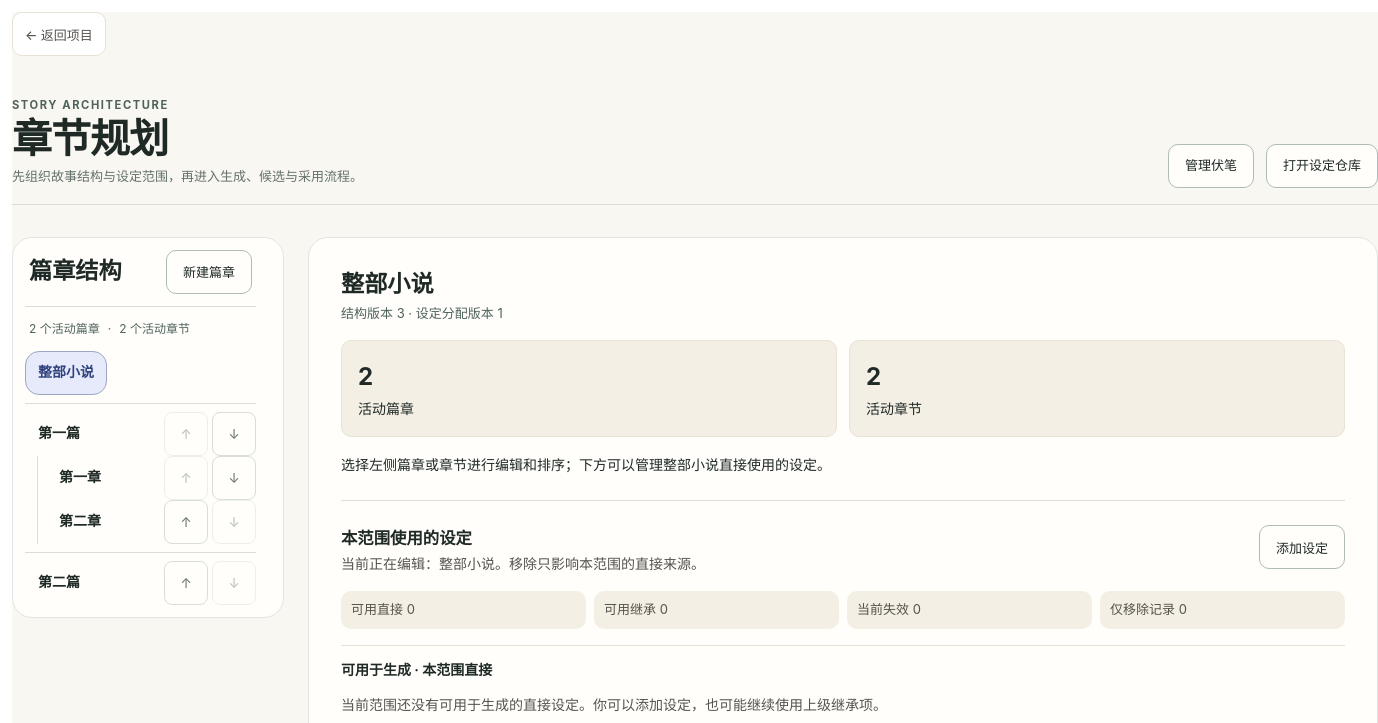
ChapterPlanningPage › never unlocks a version conflict when the authoritative refresh fails
Click the button "第一篇". click: (92, 434)
box: [25,412,160,456]
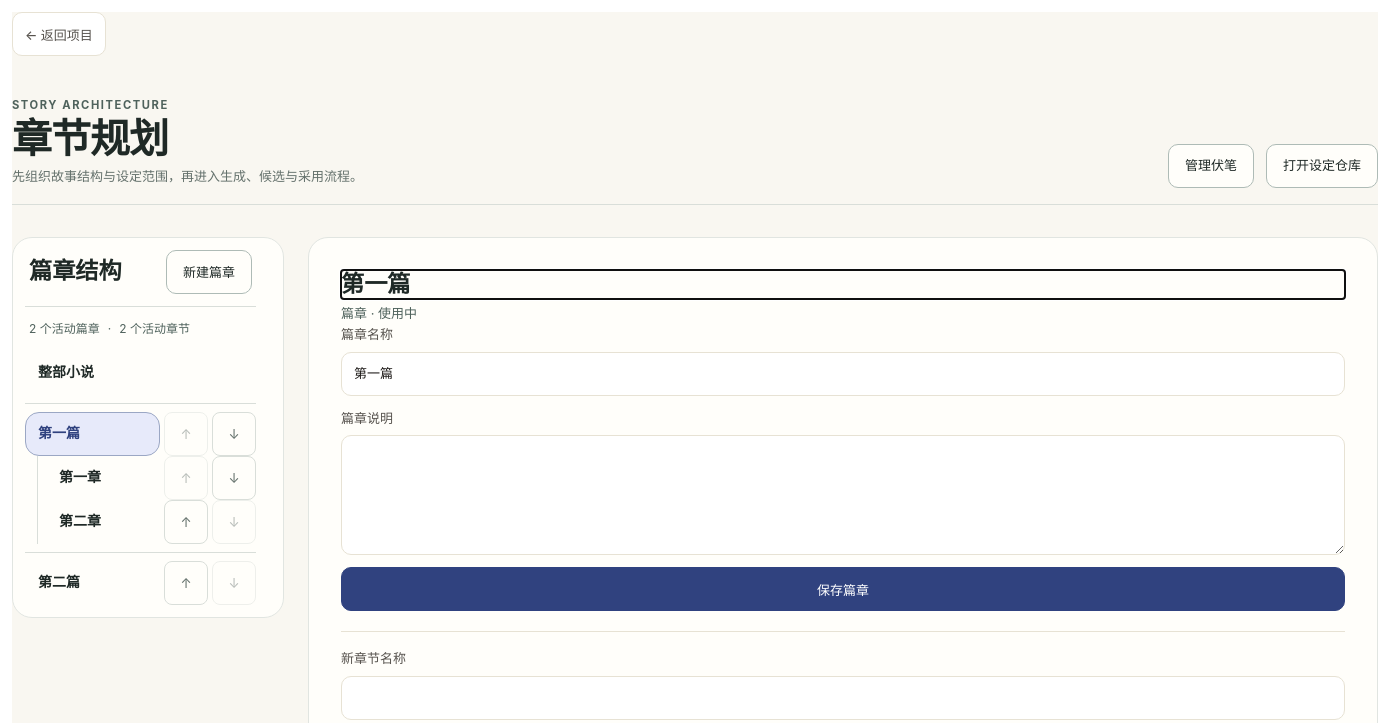
Click the button "保存篇章". click: (843, 589)
box: [341,567,1345,611]
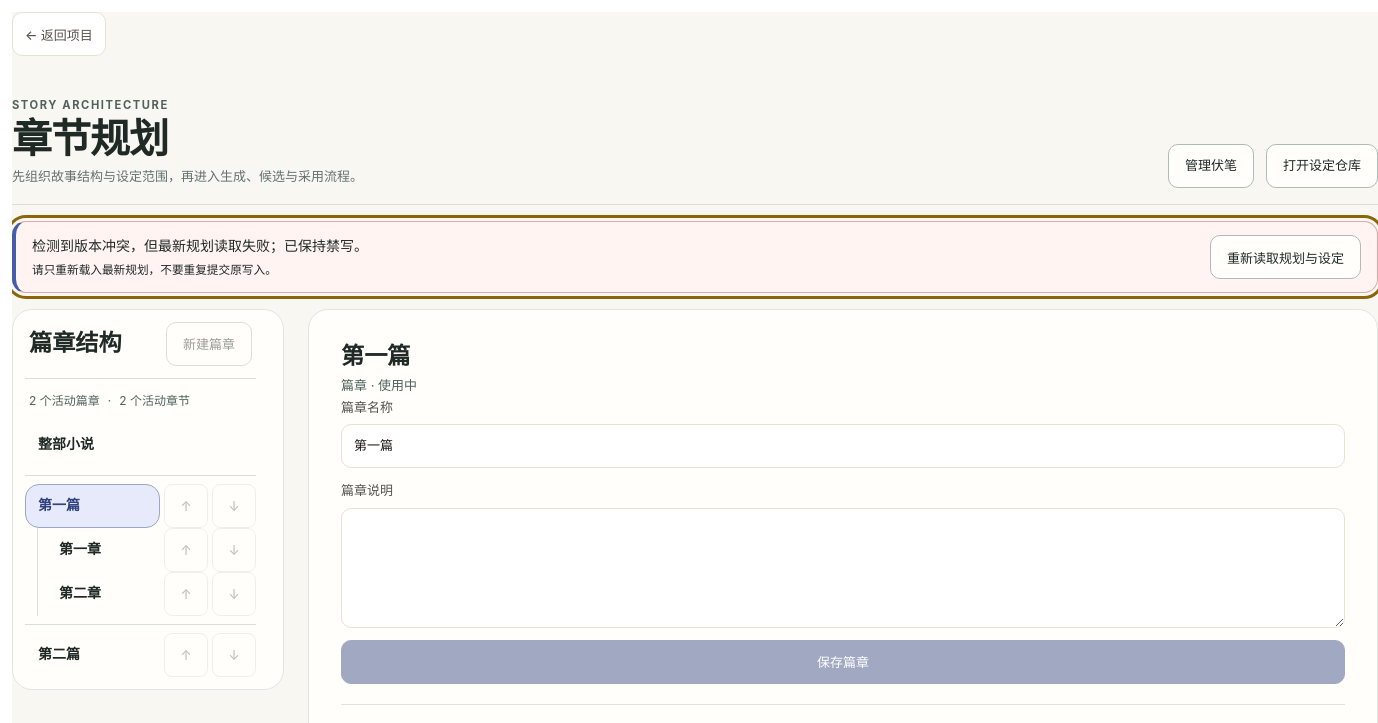
Now the text "检测到版本冲突，但最新规划读取失败；已保持禁写。 请只重新载入最新规划，不要重复提交原写入。" is shown, box [32,234,368,280]
Now the button "保存篇章" is disabled, box [341,640,1345,684]
